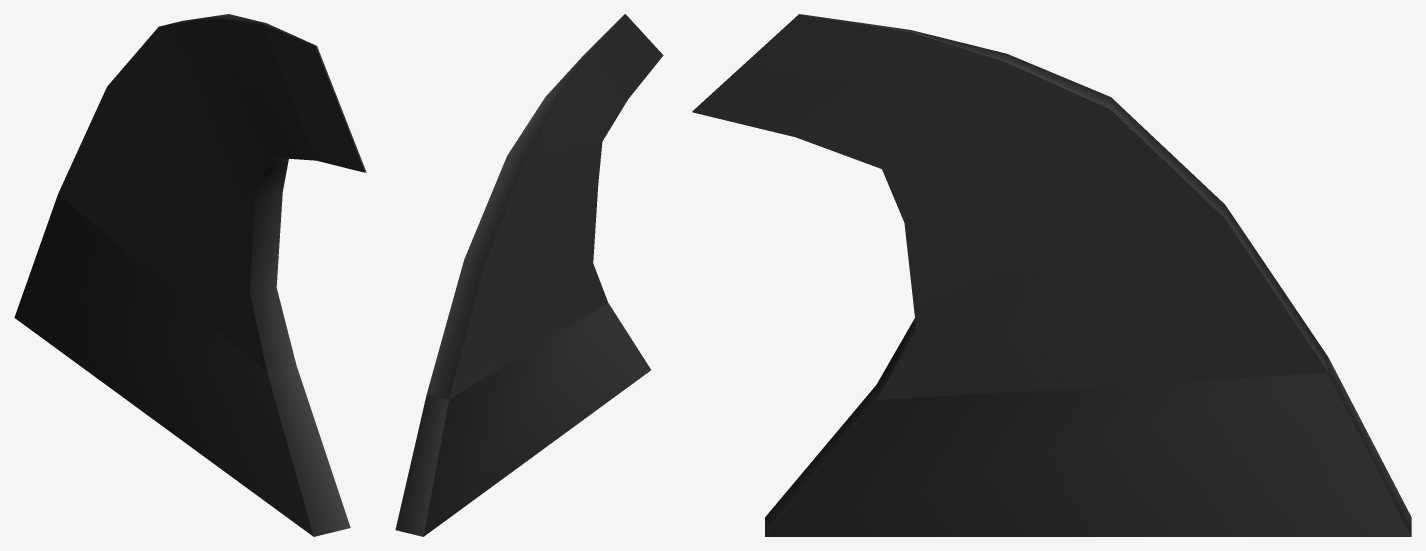
The model's file is Shark_Fin.fbx.
3 views of the same model, side by side, from view 1: azimuth 30°, elevation 25°; view 2: azimuth 150°, elevation 25°; view 3: azimuth 270°, elevation 25° (orthographic). The views are drawn at different scales.
Visible parts, largest first — view 1: Shark_Fin; view 2: Shark_Fin; view 3: Shark_Fin.
Boxes of the visible parts, x1,y1,x2,y2 form: Shark_Fin: (14, 14, 366, 536); Shark_Fin: (395, 14, 663, 536); Shark_Fin: (692, 14, 1411, 536).
Bounding box in the file's own units: 2.03 × 25.03 × 31.83.
